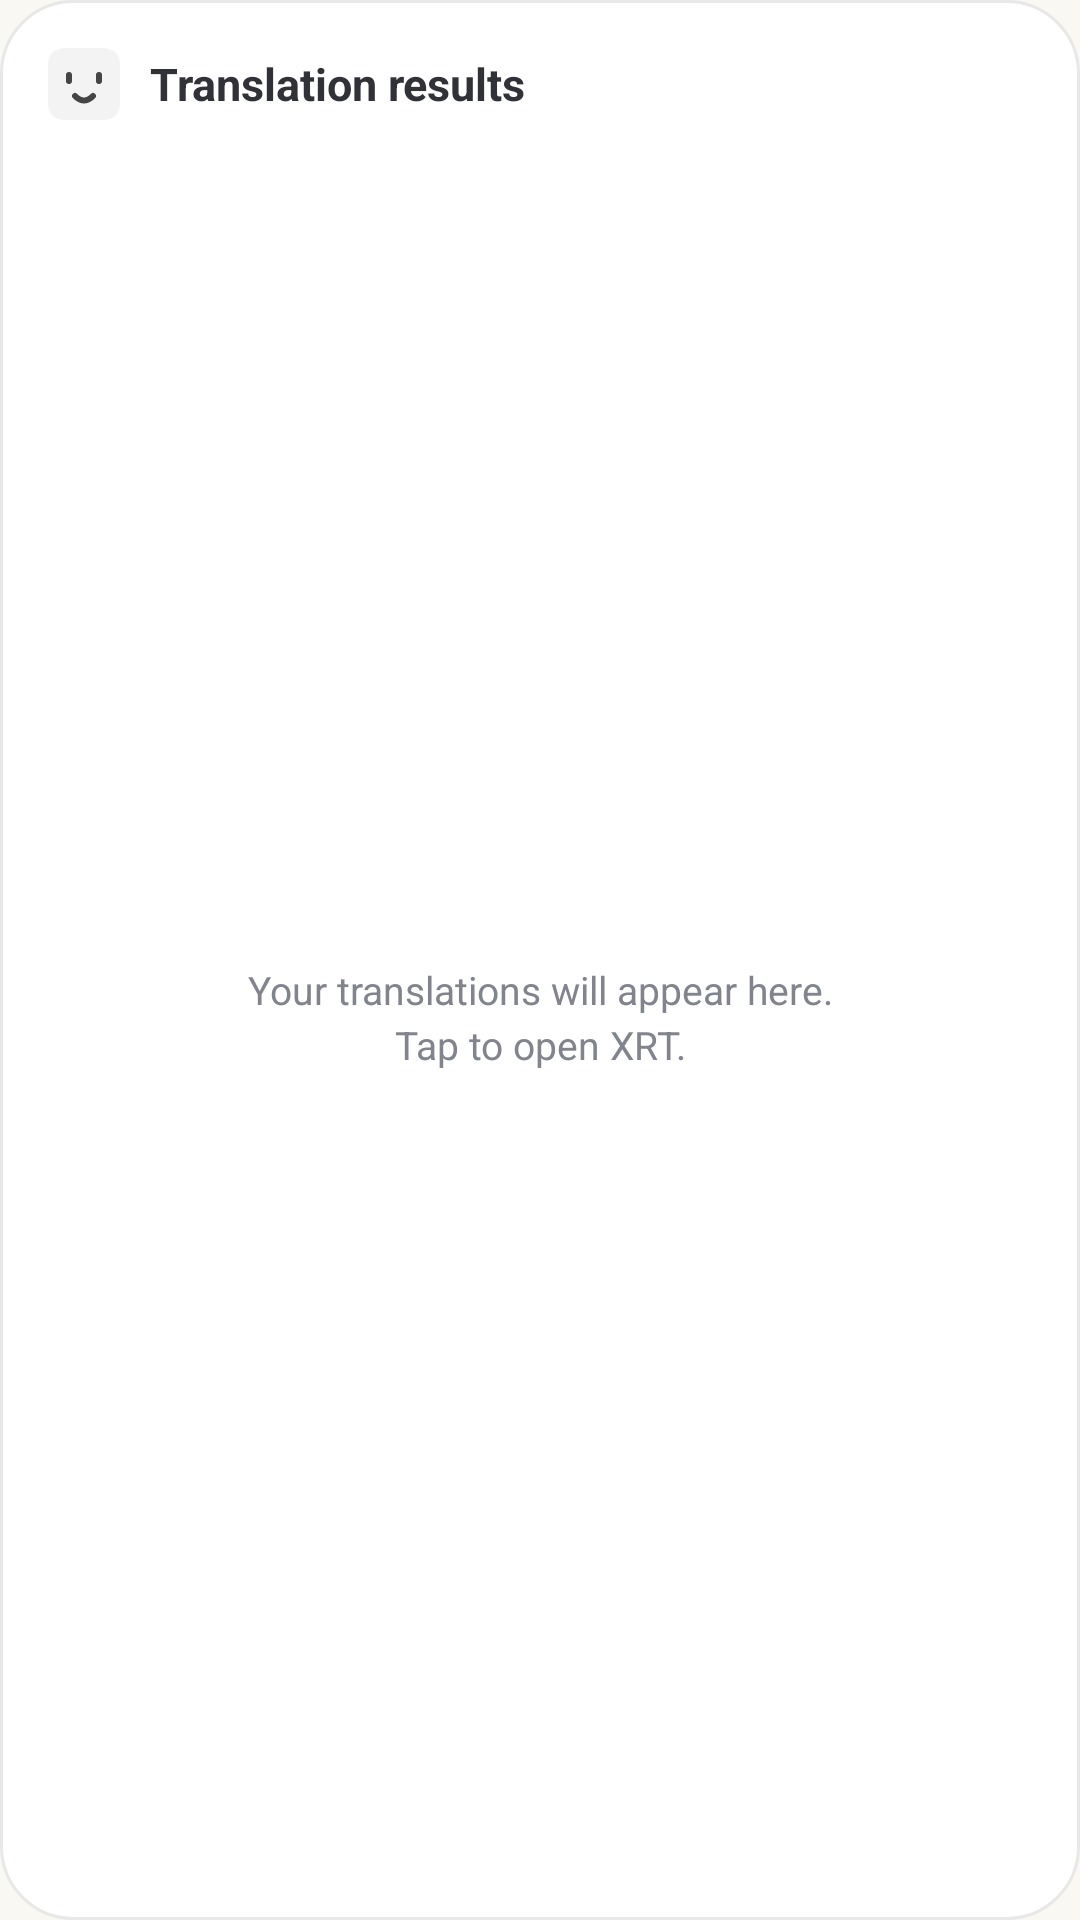

Point at icon controls on the screen. Image size 1080×1920, points as [x,y].
text widget face: [84,84]
